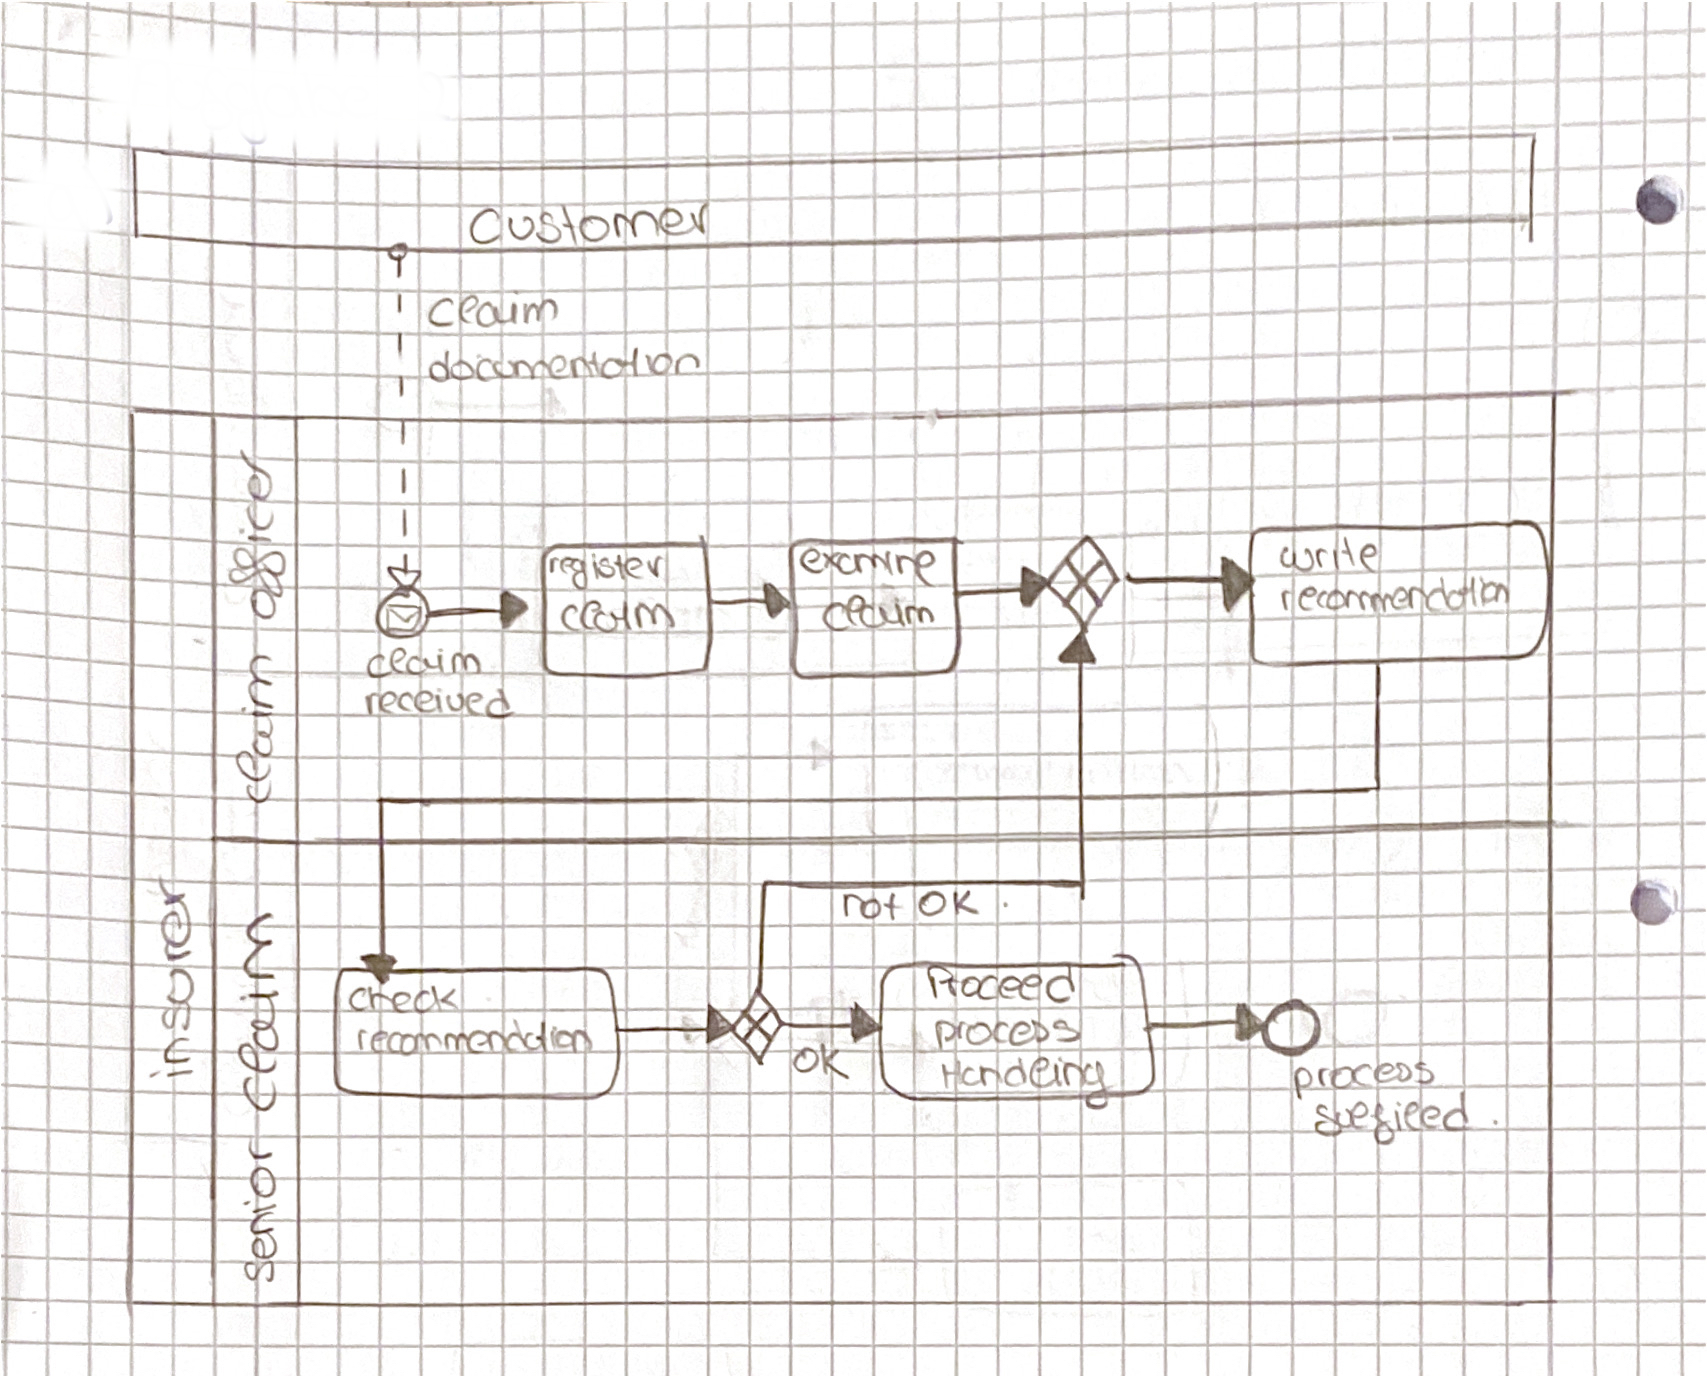Check: (340, 979, 467, 1019)
Claum: (421, 289, 567, 333)
Customer: (460, 194, 720, 253)
Handling: (931, 1047, 1122, 1118)
OK: (785, 1038, 858, 1088), (910, 883, 985, 922)
Proceed: (919, 958, 1084, 1012)
claim: (230, 901, 288, 1122), (225, 643, 285, 812), (552, 587, 685, 643), (816, 588, 941, 642), (359, 642, 489, 685)
documentation: (420, 338, 709, 390)
examine: (795, 541, 943, 595)
fulfiled: (1304, 1085, 1481, 1156)
insurer: (139, 868, 202, 1088)
not: (837, 885, 910, 928)
officer: (219, 441, 292, 630)
process: (1284, 1054, 1443, 1108), (926, 1012, 1089, 1061)
received: (357, 680, 522, 725)
recommendation: (350, 1012, 599, 1063), (1275, 570, 1517, 621)
register: (543, 548, 671, 597)
senior: (233, 1127, 285, 1292)
write: (1273, 529, 1388, 583)
